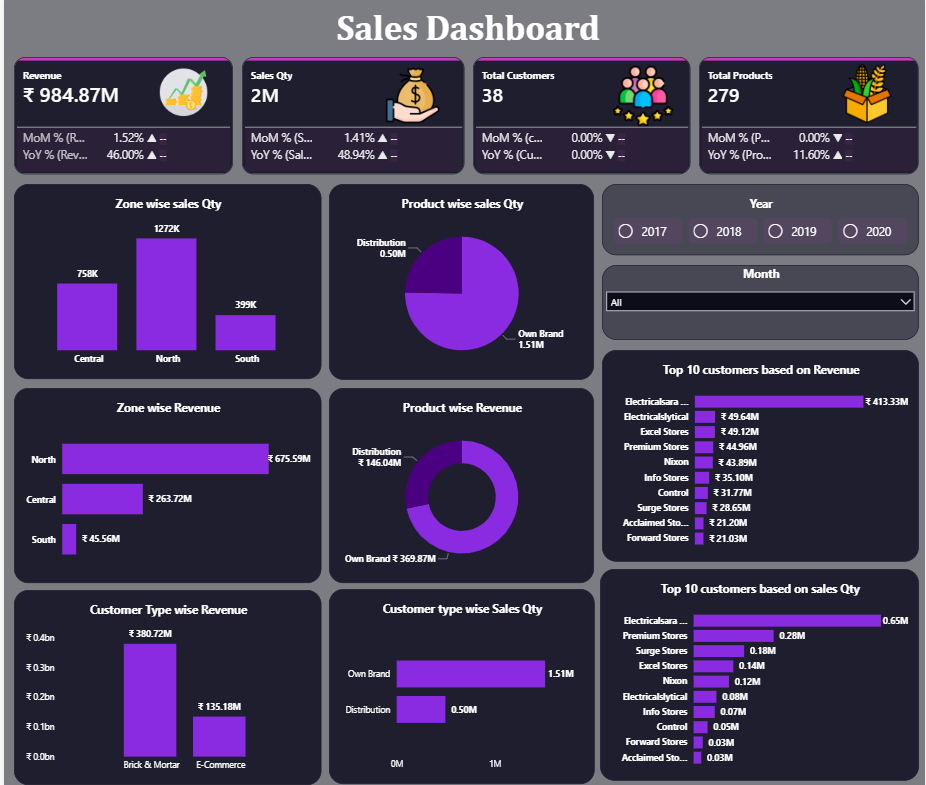

The dashboard page shown, as its layout file describes it:
{"tool":"powerbi","page":{"name":"Page 1","canvas":[1280,1100],"ordinal":0},"visuals":[{"type":"barChart","title":"Top 10 customers based on Revenue","fields":{"Category":["sales customers.custmer_name"],"Y":["Base Measure.Revenue"]},"box":[830.4,490.4,440.3,294],"z":0},{"type":"clusteredBarChart","title":"Zone wise Revenue","fields":{"Category":["sales markets.zone","sales markets.markets_name"],"Y":["Base Measure.Revenue"]},"box":[13.7,543.2,426.9,270.9],"z":1000},{"type":"donutChart","title":"Product wise Revenue","fields":{"Category":["sales products.product_type"],"Y":["Base Measure.Revenue"]},"box":[451.5,543.2,368,270.9],"z":2000},{"type":"pieChart","title":"Product wise sales Qty","fields":{"Category":["sales products.product_type"],"Y":["Base Measure.sales Qty"]},"box":[451.5,260,368,272.3],"z":3000},{"type":"barChart","title":"Top 10 customers based on sales Qty","fields":{"Category":["sales customers.custmer_name"],"Y":["Base Measure.sales Qty"]},"box":[827.7,794.9,443.3,294.2],"z":4000},{"type":"columnChart","title":"Zone wise sales Qty","fields":{"Category":["sales markets.zone","sales markets.markets_name"],"Y":["Base Measure.Sales Qty"]},"box":[13.7,260,426.9,270.9],"z":5000},{"type":"cardVisual","fields":{"Data":["Base Measure.sales Qty"]},"box":[331.1,83.5,309.2,162.8],"z":6000},{"type":"cardVisual","fields":{"Data":["Base Measure.Revenue"]},"box":[13.7,83.5,303.7,162.8],"z":7000},{"type":"cardVisual","fields":{"Data":["Base Measure.Total Product"]},"box":[965.9,83.5,305.1,162.8],"z":8000},{"type":"advancedSlicerVisual","title":"Year","fields":{"Values":["sales date.year"]},"box":[830.4,260.1,440.3,98.9],"z":9000},{"type":"cardVisual","fields":{"Data":["Base Measure.Total customers"]},"box":[651.2,83.5,302.4,162.8],"z":10000},{"type":"slicer","title":"Month","fields":{"Values":["sales date.month_name"]},"box":[830.4,372.5,440.3,104.3],"z":11000},{"type":"textbox","box":[99.9,13.7,1089.1,69.8],"z":12000},{"type":"columnChart","title":"Customer Type wise Revenue","fields":{"Category":["sales customers.customer_type"],"Y":["Base Measure.Revenue"]},"box":[14.3,824.3,427.1,271.4],"z":13000},{"type":"barChart","title":"Customer type wise Sales Qty","fields":{"Category":["sales products.product_type"],"Y":["Base Measure.Sales Qty"]},"box":[451.4,822.9,368.6,271.4],"z":14000},{"type":"image","box":[201.4,83.3,95.8,97.2],"z":15000},{"type":"image","box":[511.1,83.3,113.9,106.9],"z":15001},{"type":"image","box":[830.6,76.4,113.9,122.2],"z":15002},{"type":"image","box":[1141.7,76.4,113.9,115.3],"z":15003}]}

Visuals, with their boxes in screenshot pixels (x1, y1, x2, y2), scaled from the page's 1280x1100 canvas onto the 926x785 screenshot:
"Top 10 customers based on Revenue" barChart: 601, 350, 919, 560
"Zone wise Revenue" clusteredBarChart: 10, 388, 319, 581
"Product wise Revenue" donutChart: 327, 388, 593, 581
"Product wise sales Qty" pieChart: 327, 186, 593, 380
"Top 10 customers based on sales Qty" barChart: 599, 567, 919, 777
"Zone wise sales Qty" columnChart: 10, 186, 319, 379
cardVisual - Base Measure.sales Qty: 240, 60, 463, 176
cardVisual - Base Measure.Revenue: 10, 60, 230, 176
cardVisual - Base Measure.Total Product: 699, 60, 919, 176
"Year" advancedSlicerVisual: 601, 186, 919, 256
cardVisual - Base Measure.Total customers: 471, 60, 690, 176
"Month" slicer: 601, 266, 919, 340
textbox: 72, 10, 860, 60
"Customer Type wise Revenue" columnChart: 10, 588, 319, 782
"Customer type wise Sales Qty" barChart: 327, 587, 593, 781
image: 146, 59, 215, 129
image: 370, 59, 452, 136
image: 601, 55, 683, 142
image: 826, 55, 908, 137
